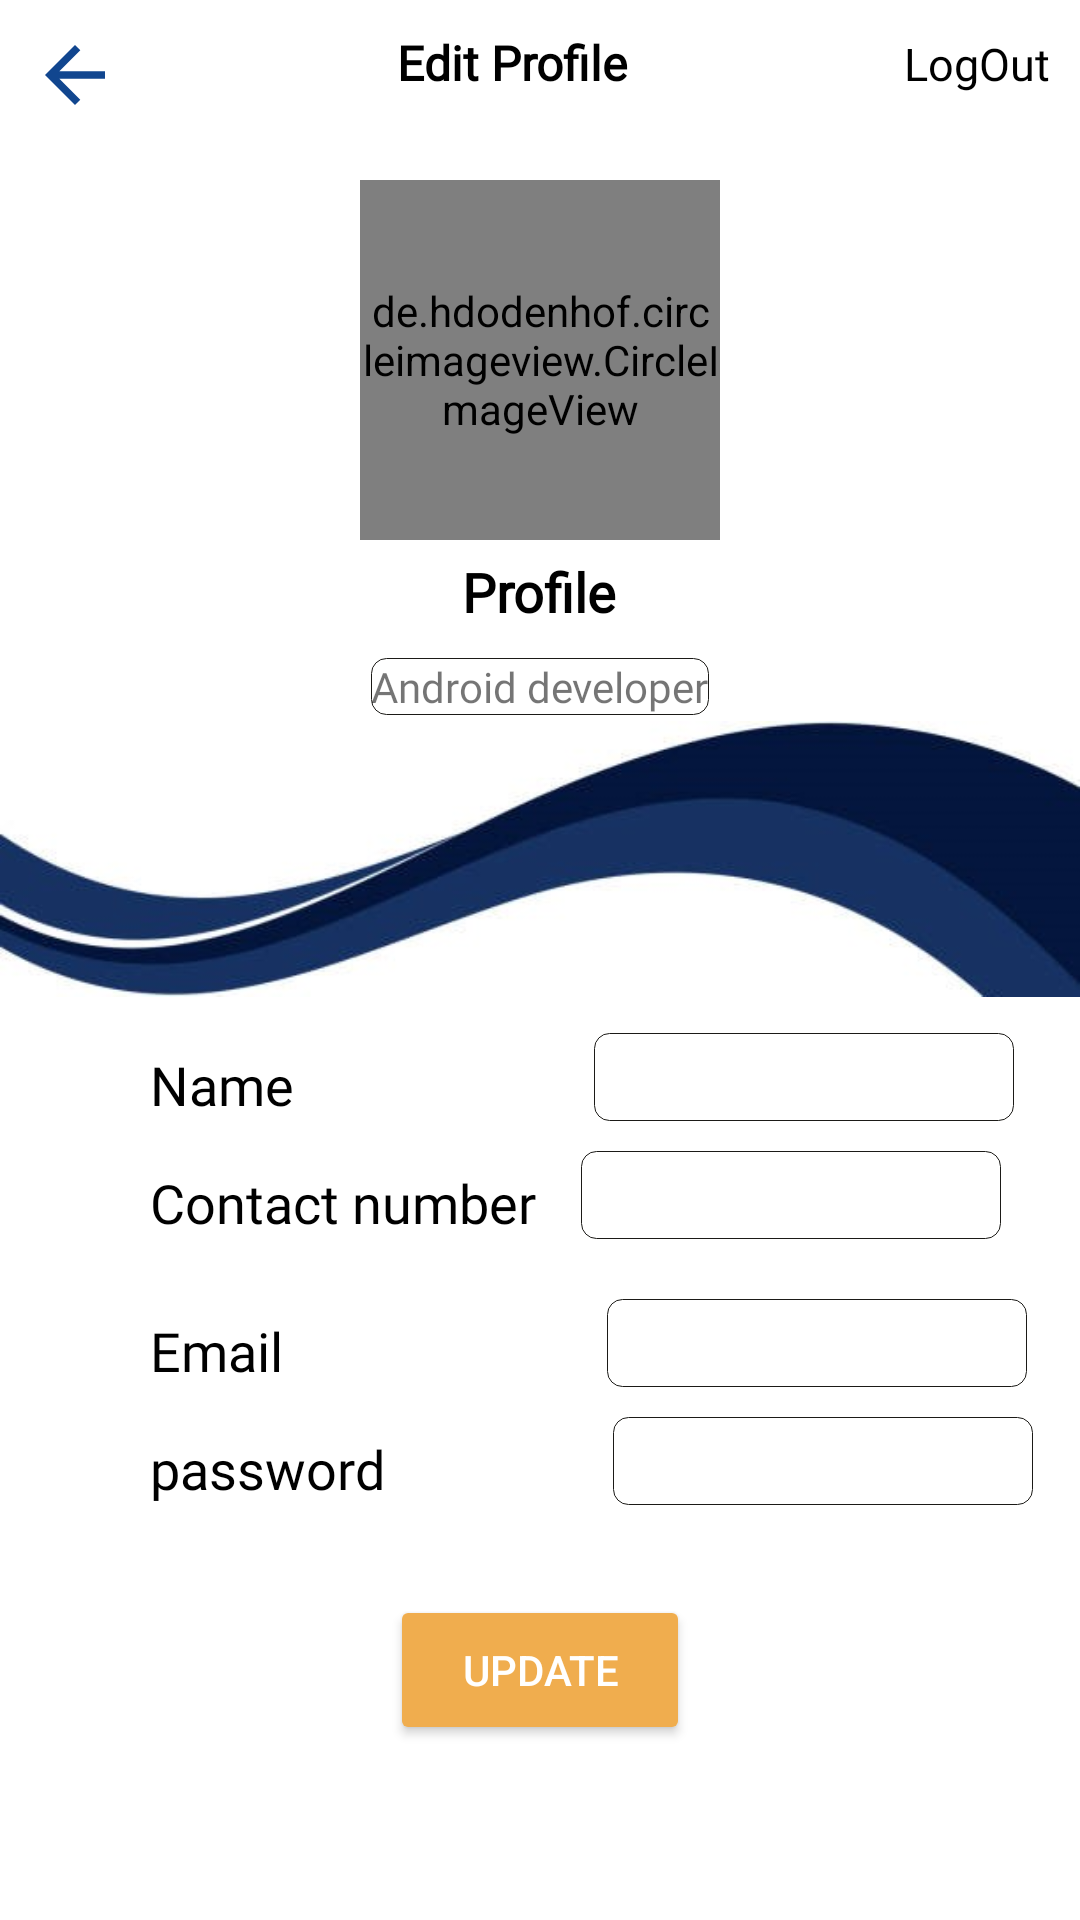

Locate icon controls on the screen. Image size 1080x1920, boxes as {"x1": x1, "y1": y1, "x2": x2, "y2": y2}.
arrow back: {"x1": 45, "y1": 45, "x2": 105, "y2": 105}
